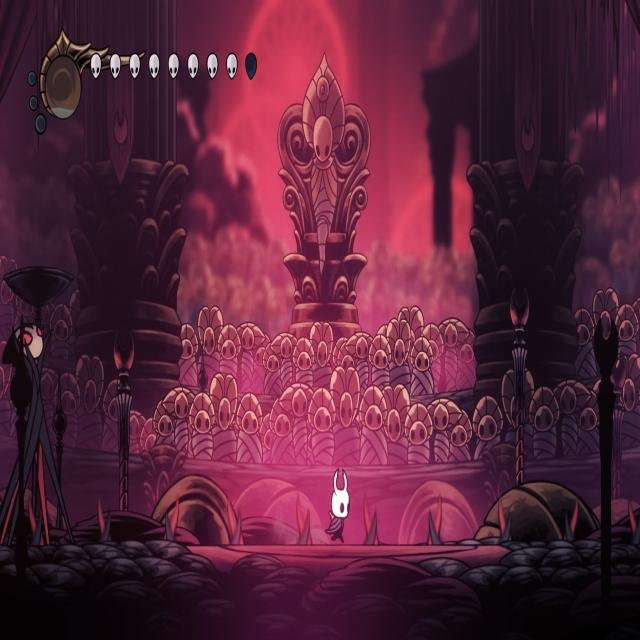Grimm: (0, 309, 72, 543)
Player: (326, 465, 353, 546)
Spikes: (224, 489, 247, 546), (560, 488, 582, 540), (26, 487, 44, 545), (494, 494, 514, 544), (96, 492, 114, 543), (162, 490, 180, 541), (296, 491, 312, 546), (624, 489, 640, 543), (362, 498, 378, 546), (427, 498, 442, 545)
